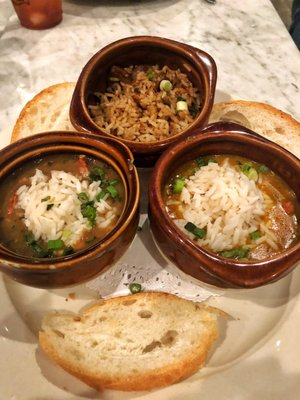sushi: (147, 124, 300, 289), (0, 132, 141, 290), (68, 35, 217, 157)
